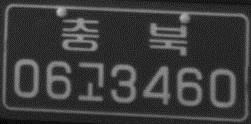0: (209, 68, 236, 108), (13, 58, 39, 99)
3: (110, 63, 137, 104)
4: (141, 64, 170, 105)
6: (176, 67, 203, 106), (45, 60, 71, 100)
고: (76, 61, 105, 102)
충북_D: (60, 16, 189, 56)
